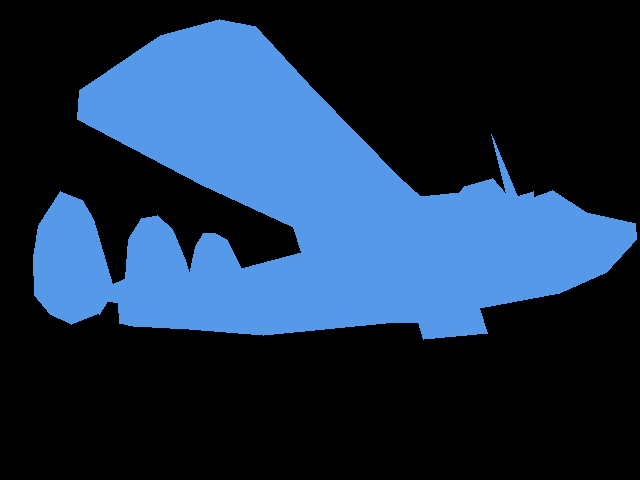Airplane: (33, 19, 636, 340)
